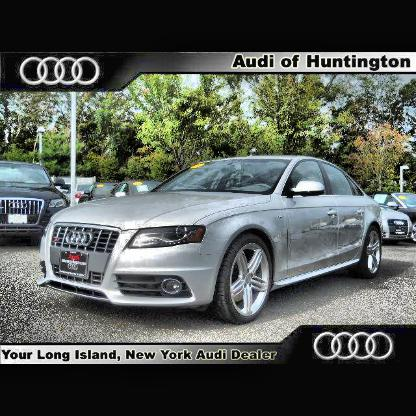Audi S4 Sedan 2012: (37, 155, 384, 327)
